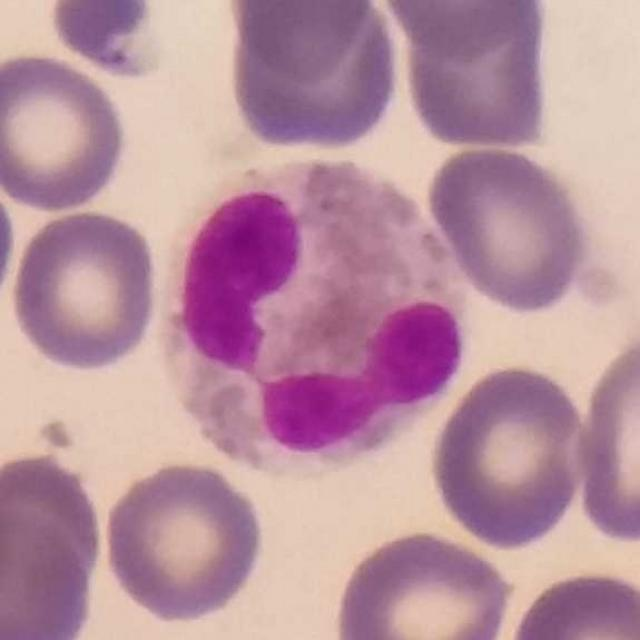eosino: (154, 142, 483, 484)
